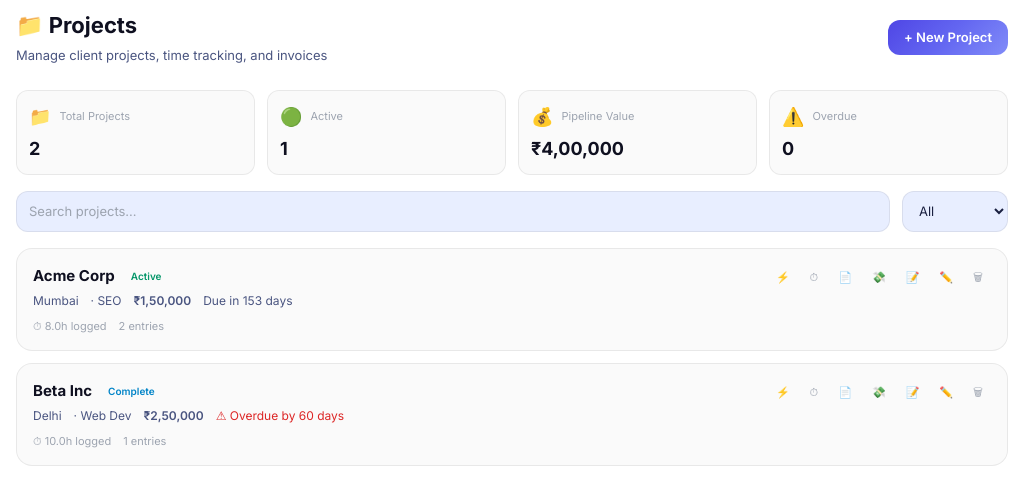
ProjectsTab › filtering › filters projects by search term
This screenshot has width=1024, height=483.
Expected: the heading "Acme Corp" is shown, [33,265,115,288]
In the field with placeholder "Search projects...": (453, 211) [16,190,890,232], type "Acme"
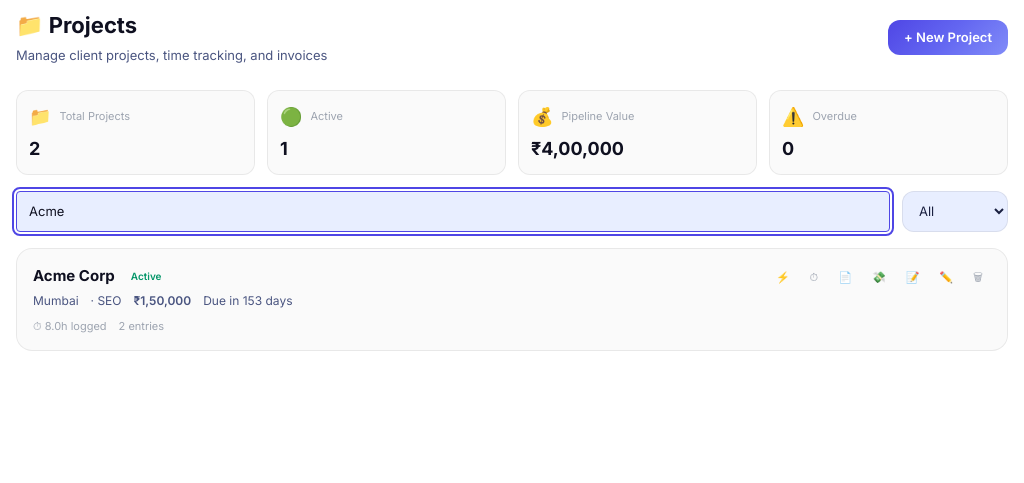
Expected: the heading "Acme Corp" is shown, [33,265,115,288]
Result: the heading "Beta Inc" is gone
